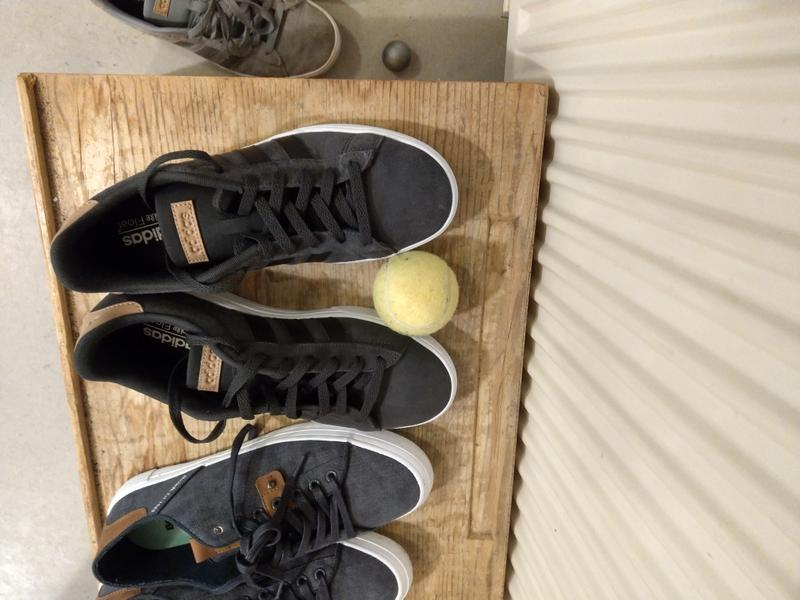Tennisball: (370, 246, 463, 339)
